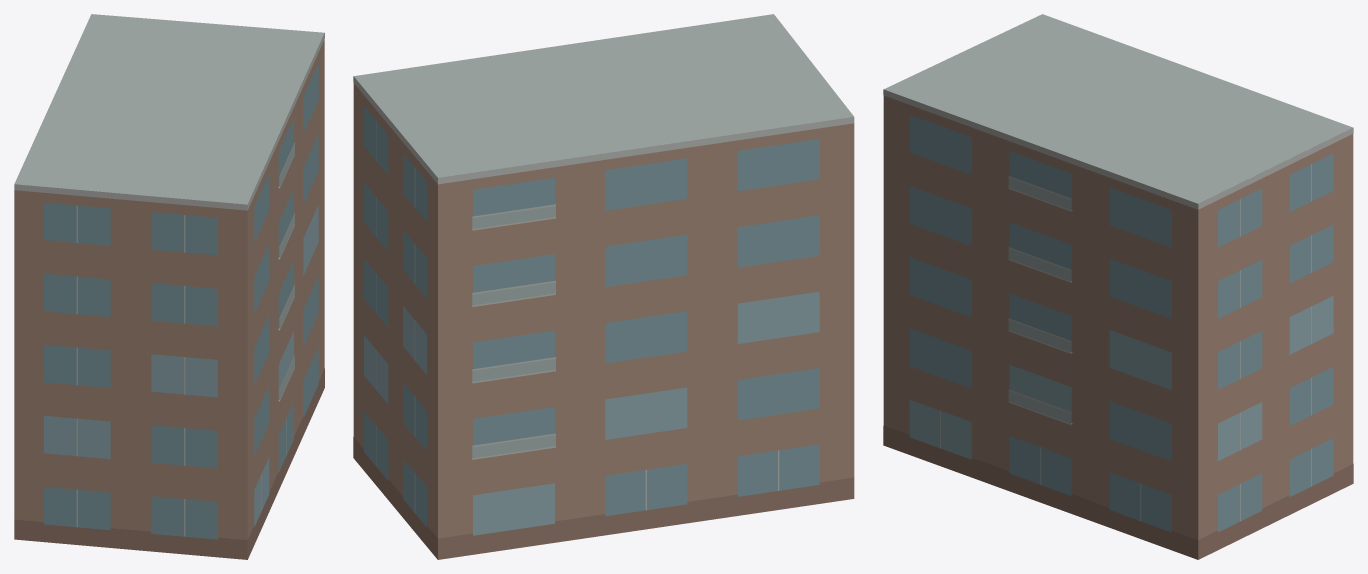
The model's file is survey-upis-32884732.glb.
3 views of the same model, side by side, from view 1: azimuth 30°, elevation 25°; view 2: azimuth 150°, elevation 25°; view 3: azimuth 270°, elevation 25° (orthographic). The views are drawn at different scales.
Parts seen in each view (by area): view 1: survey-upis-32884732.tmp; view 2: survey-upis-32884732.tmp; view 3: survey-upis-32884732.tmp.
Boxes of the visible parts, box(x1,y1,x2,y2) form: survey-upis-32884732.tmp: box(14, 14, 324, 559); survey-upis-32884732.tmp: box(353, 14, 854, 559); survey-upis-32884732.tmp: box(883, 14, 1353, 559).
Bounding box in the file's own units: 16.59 × 14.5 × 17.35.
